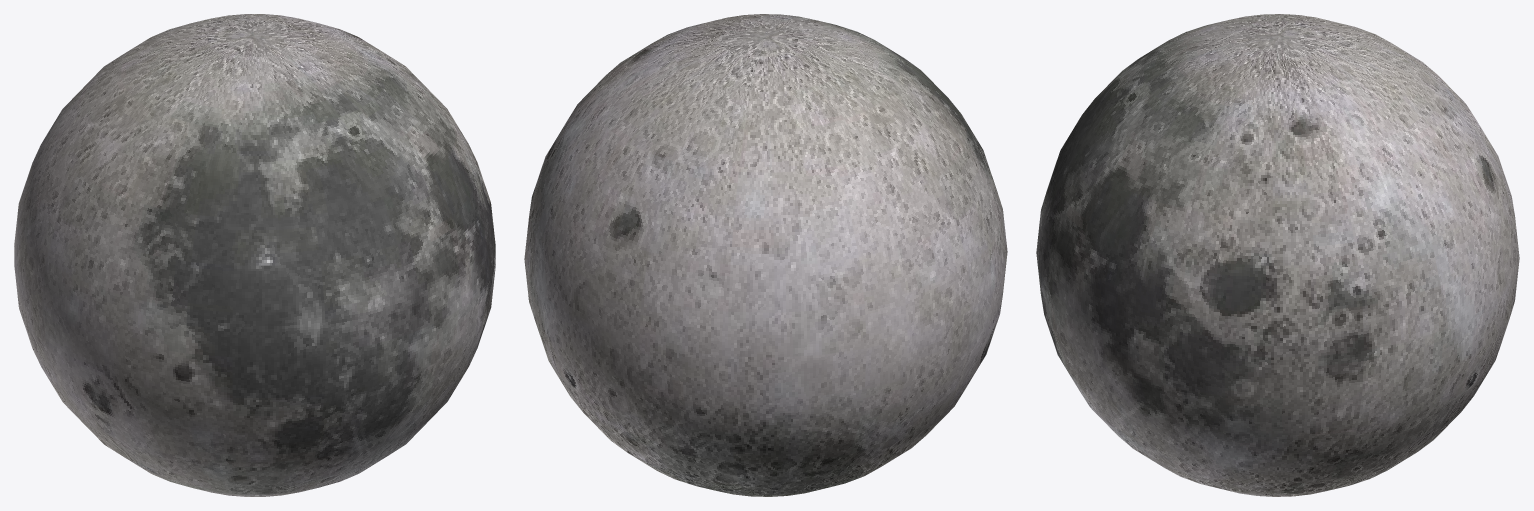
The model's file is moon.glb.
The picture shows the model from 3 angles, left to right: view 1: azimuth 30°, elevation 25°; view 2: azimuth 150°, elevation 25°; view 3: azimuth 270°, elevation 25°; orthographic projection.
Visible parts, largest first — view 1: moon; view 2: moon; view 3: moon.
Part boxes in pixels (<box>): moon: <box>14,14,495,496</box>; moon: <box>524,14,1007,496</box>; moon: <box>1036,14,1519,496</box>.
Bounding box in the file's own units: 2 × 2 × 2.
1 material, 1 textured.
